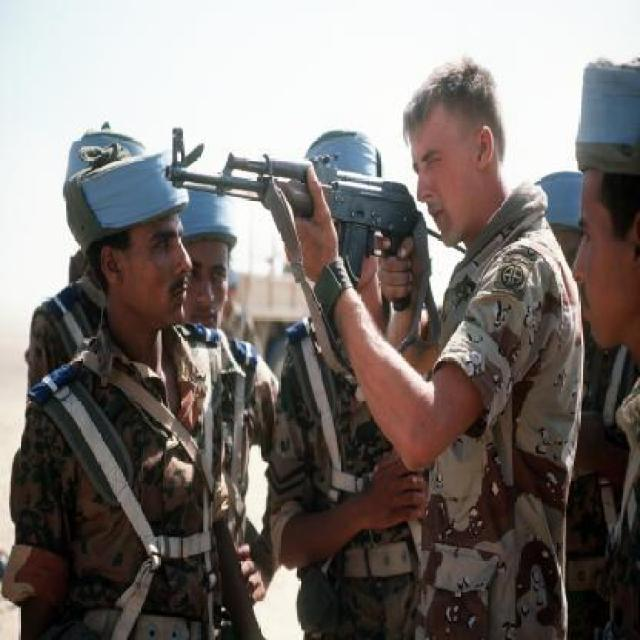weapon: (150, 119, 437, 327)
